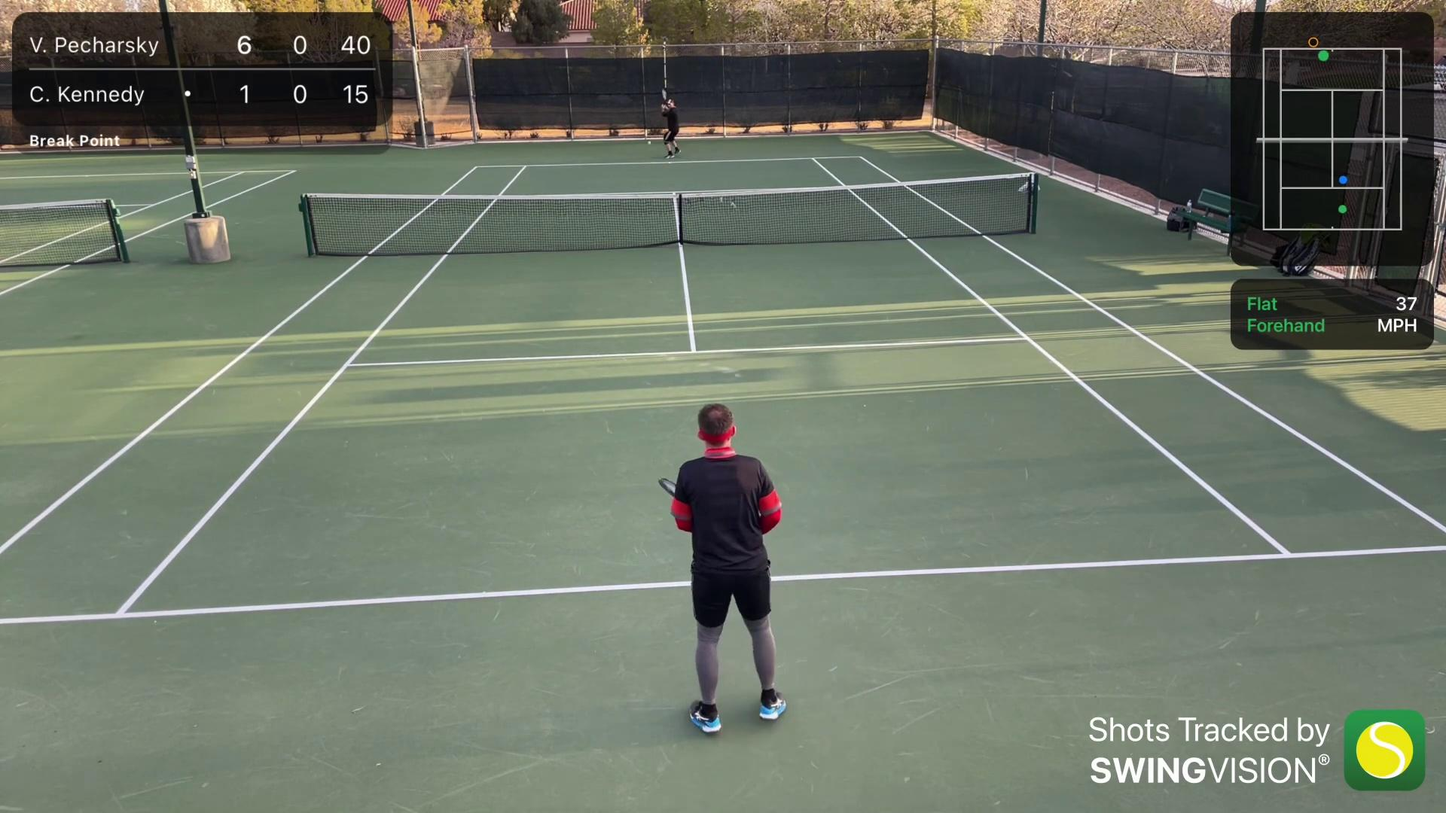ball: (647, 139, 654, 145)
